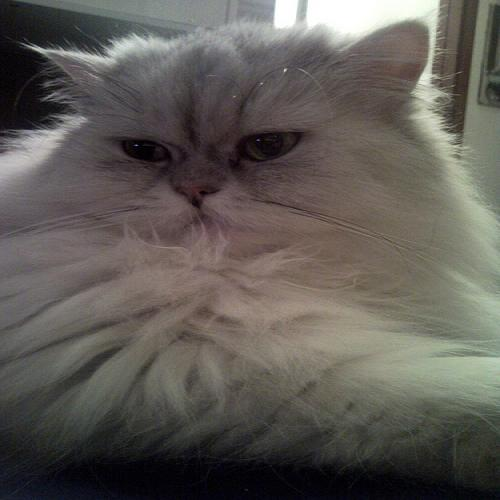persian: (27, 20, 474, 267)
